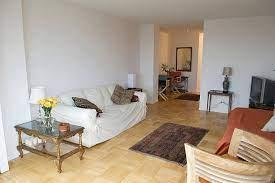TV: (248, 70, 275, 106)
chair: (179, 130, 275, 183), (158, 78, 172, 104), (172, 76, 184, 96)
light: (30, 85, 51, 122), (222, 66, 234, 93)
sofa: (52, 84, 151, 146), (221, 107, 275, 156)
table: (15, 119, 84, 174), (205, 90, 234, 113), (181, 75, 191, 96), (124, 86, 144, 94)
